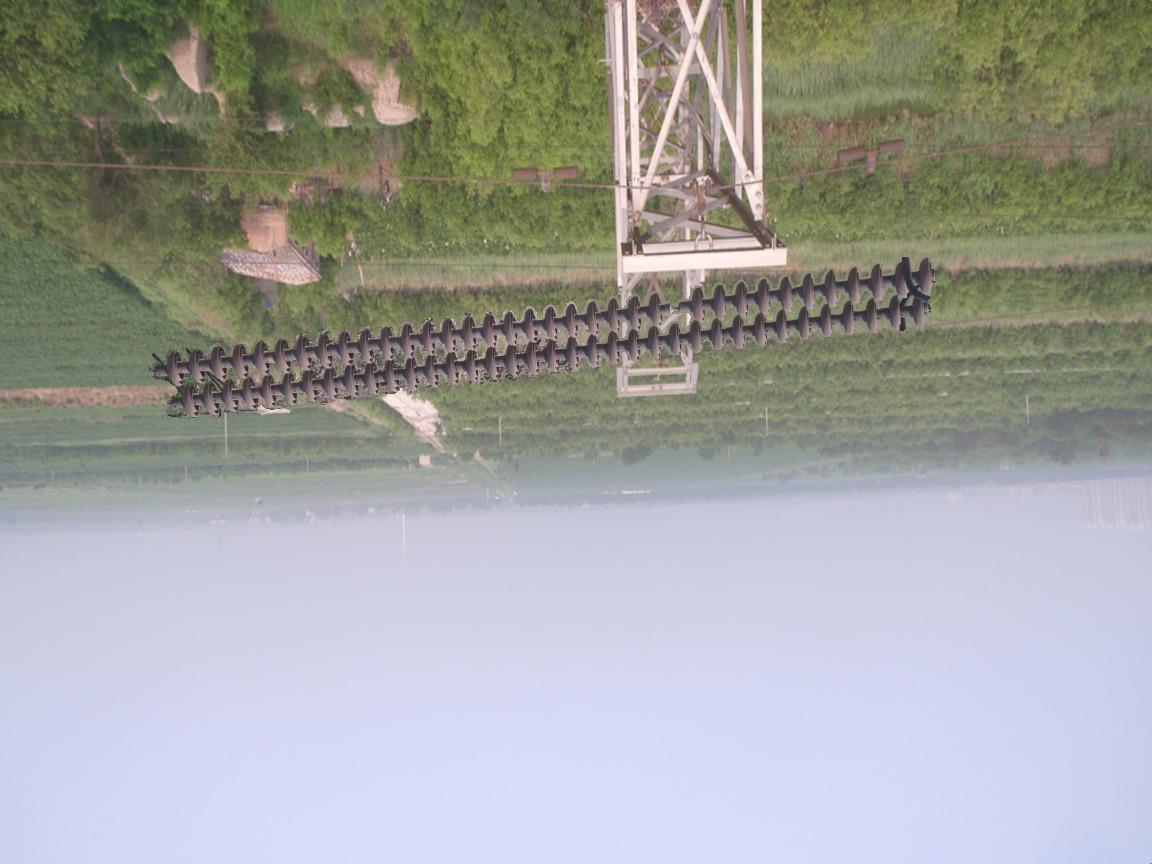insulator: (149, 251, 939, 420)
insulator_stringdrop: (646, 285, 709, 330)
